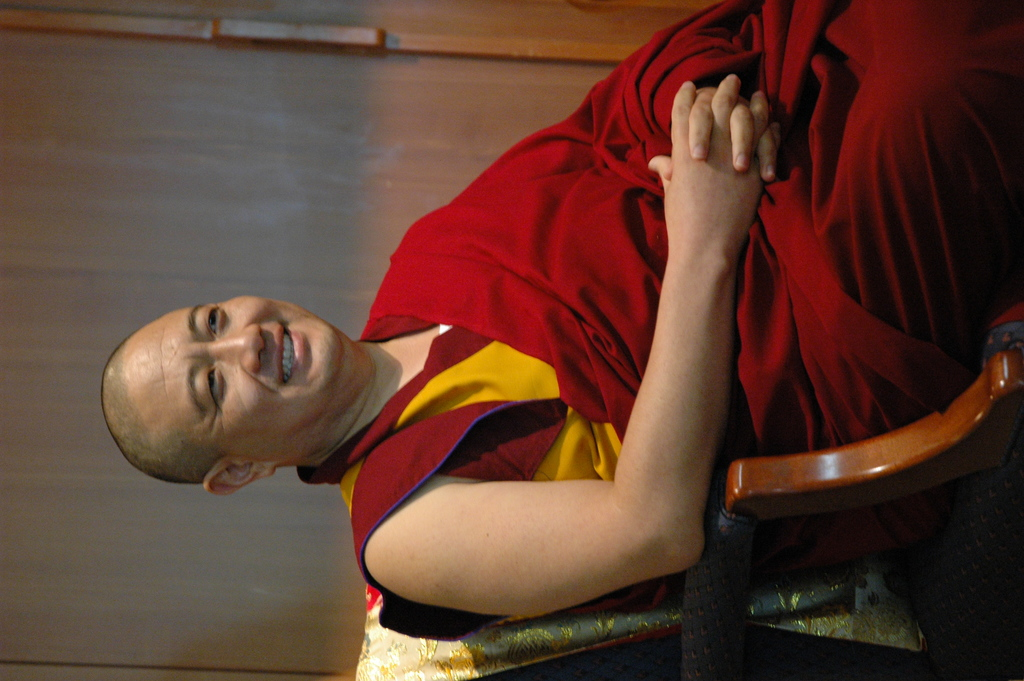Human_hand: (689, 83, 778, 186)
